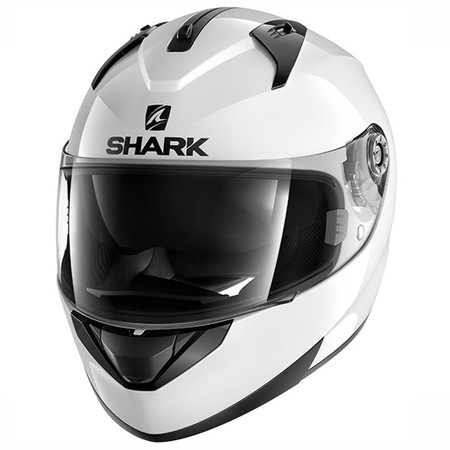with_helmet: (53, 3, 407, 444)
